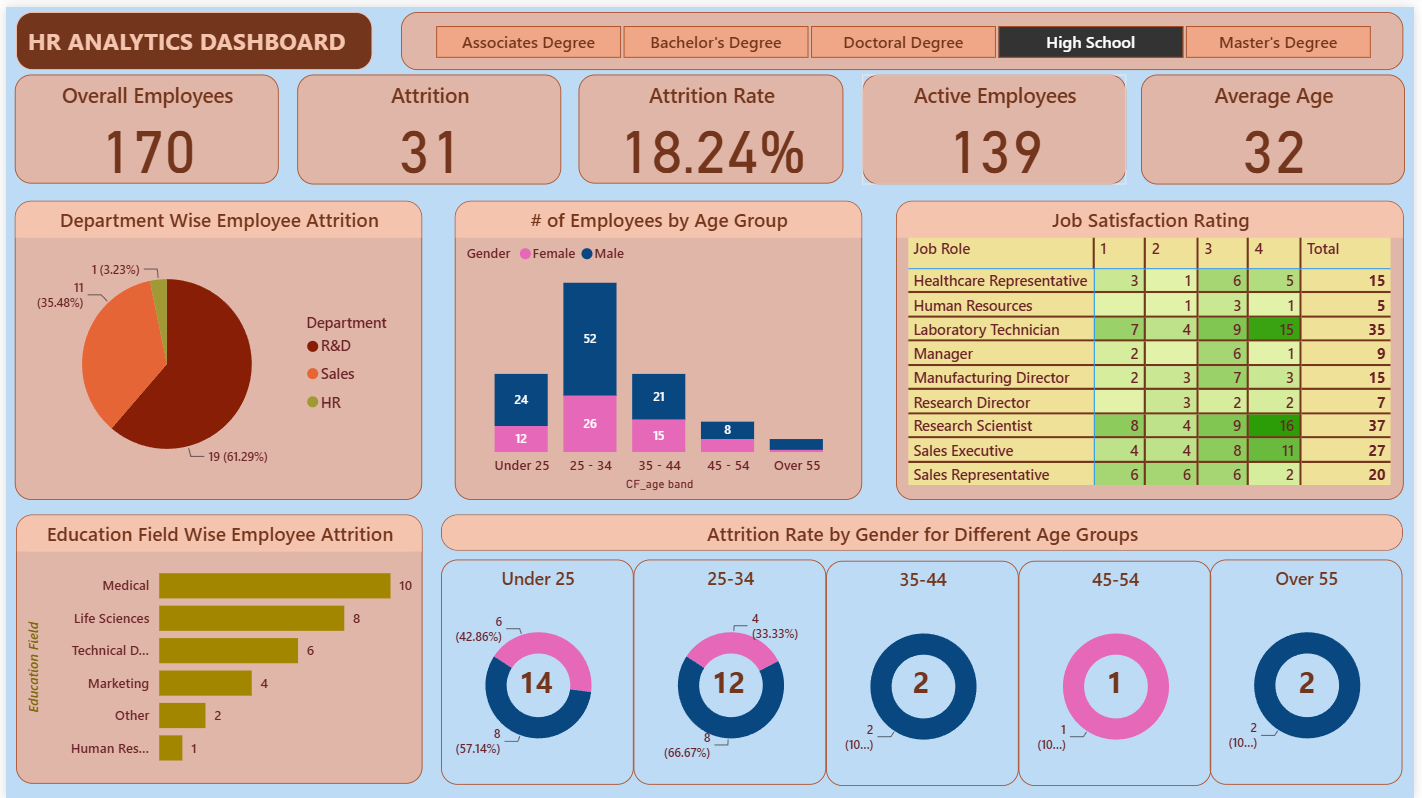

This screenshot's page, from the dashboard's own definition file:
{"tool":"powerbi","page":{"name":"HR Analytics Dashboard","canvas":[1280,720],"ordinal":0},"visuals":[{"type":"card","title":"Overall Employees","fields":{"Values":["Sum(HR data.Employee Count)"]},"box":[8.3,61.5,239.9,99.1],"z":0},{"type":"card","title":"Attrition ","fields":{"Values":["Sum(HR data.Attrition Count)"]},"box":[264.9,61.5,239.9,100.1],"z":1000},{"type":"card","title":"Attrition Rate","fields":{"Values":["HR data.Attrition Rate"]},"box":[520.4,61.5,240.9,99.1],"z":2000},{"type":"card","title":"Active Employees","fields":{"Values":["HR data.Active employees"]},"box":[778,61.5,239.9,100.1],"z":3000},{"type":"card","title":"Average Age","fields":{"Values":["Avg(HR data.Age)"]},"box":[1031.4,61.5,239.9,100.1],"z":4000},{"type":"pieChart","title":"Department Wise Employee Attrition","fields":{"Category":["HR data.Department"],"Y":["Sum(HR data.Attrition Count)"]},"box":[8.4,175.8,370.2,272.1],"z":5000},{"type":"columnChart","title":"# of Employees by Age Group","fields":{"Category":["HR data.CF_age band"],"Y":["Sum(HR data.Employee Count)"],"Series":["HR data.Gender"]},"box":[407.6,175.8,370.2,272.1],"z":6000},{"type":"pivotTable","title":"Job Satisfaction Rating","fields":{"Rows":["HR data.Job Role"],"Columns":["HR data.Job Satisfaction"],"Values":["Sum(HR data.Employee Count)"]},"box":[809.6,175.8,461.8,272.1],"z":7000},{"type":"barChart","title":"Education Field Wise Employee Attrition","fields":{"Category":["HR data.Education Field"],"Y":["Sum(HR data.Attrition Count)"]},"box":[9.3,461.8,369.3,244.9],"z":8000},{"type":"donutChart","title":"Under 25","fields":{"Category":["HR data.Gender"],"Y":["Sum(HR data.Attrition Count)"],"Series":["HR data.CF_age band"]},"box":[395.5,502,174.8,204.7],"z":9000},{"type":"textbox","title":"Attrition Rate by Gender for Different Age Groups","box":[395.5,461.8,874.1,32.7],"z":10000},{"type":"donutChart","title":"25-34","fields":{"Category":["HR data.Gender"],"Y":["Sum(HR data.Attrition Count)"],"Series":["HR data.CF_age band"]},"box":[570.3,502,174.8,204.7],"z":11000},{"type":"donutChart","title":"35-44","fields":{"Category":["HR data.Gender"],"Y":["Sum(HR data.Attrition Count)"],"Series":["HR data.CF_age band"]},"box":[745.1,503,174.8,204.7],"z":12000},{"type":"donutChart","title":"45-54","fields":{"Category":["HR data.Gender"],"Y":["Sum(HR data.Attrition Count)"],"Series":["HR data.CF_age band"]},"box":[919.9,503,174.8,204.7],"z":13000},{"type":"donutChart","title":"Over 55","fields":{"Category":["HR data.Gender"],"Y":["Sum(HR data.Attrition Count)"],"Series":["HR data.CF_age band"]},"box":[1094.8,502,174.8,204.7],"z":14000},{"type":"card","fields":{"Values":["Sum(HR data.Attrition Count)"]},"box":[459,597.4,45.8,33.7],"z":15000},{"type":"card","fields":{"Values":["Sum(HR data.Attrition Count)"]},"box":[628.8,597.5,57.4,33.4],"z":16000},{"type":"card","fields":{"Values":["Sum(HR data.Attrition Count)"]},"box":[806.1,597.5,53.2,33.4],"z":17000},{"type":"card","fields":{"Values":["Sum(HR data.Attrition Count)"]},"box":[985.4,597.4,45.8,33.7],"z":18000},{"type":"card","fields":{"Values":["Sum(HR data.Attrition Count)"]},"box":[1160.2,597.4,45.8,33.7],"z":19000},{"type":"textbox","box":[9.4,4.2,324.3,53.2],"z":20000},{"type":"slicer","fields":{"Values":["HR data.Education"]},"box":[358.7,4.2,911.4,53],"z":21000}]}

Visuals, with their boxes in screenshot pixels (x1, y1, x2, y2), scaled from the page's 1280x720 canvas onto the 1422x798 screenshot:
"Overall Employees" card: 9/68/276/178
"Attrition " card: 294/68/561/179
"Attrition Rate" card: 578/68/846/178
"Active Employees" card: 864/68/1131/179
"Average Age" card: 1146/68/1412/179
"Department Wise Employee Attrition" pieChart: 9/195/421/496
"# of Employees by Age Group" columnChart: 453/195/864/496
"Job Satisfaction Rating" pivotTable: 899/195/1412/496
"Education Field Wise Employee Attrition" barChart: 10/512/421/783
"Under 25" donutChart: 439/556/634/783
"Attrition Rate by Gender for Different Age Groups" textbox: 439/512/1410/548
"25-34" donutChart: 634/556/828/783
"35-44" donutChart: 828/557/1022/784
"45-54" donutChart: 1022/557/1216/784
"Over 55" donutChart: 1216/556/1410/783
card - Sum(HR data.Attrition Count): 510/662/561/699
card - Sum(HR data.Attrition Count): 699/662/762/699
card - Sum(HR data.Attrition Count): 896/662/955/699
card - Sum(HR data.Attrition Count): 1095/662/1146/699
card - Sum(HR data.Attrition Count): 1289/662/1340/699
textbox: 10/5/371/64
slicer - HR data.Education: 398/5/1411/63
